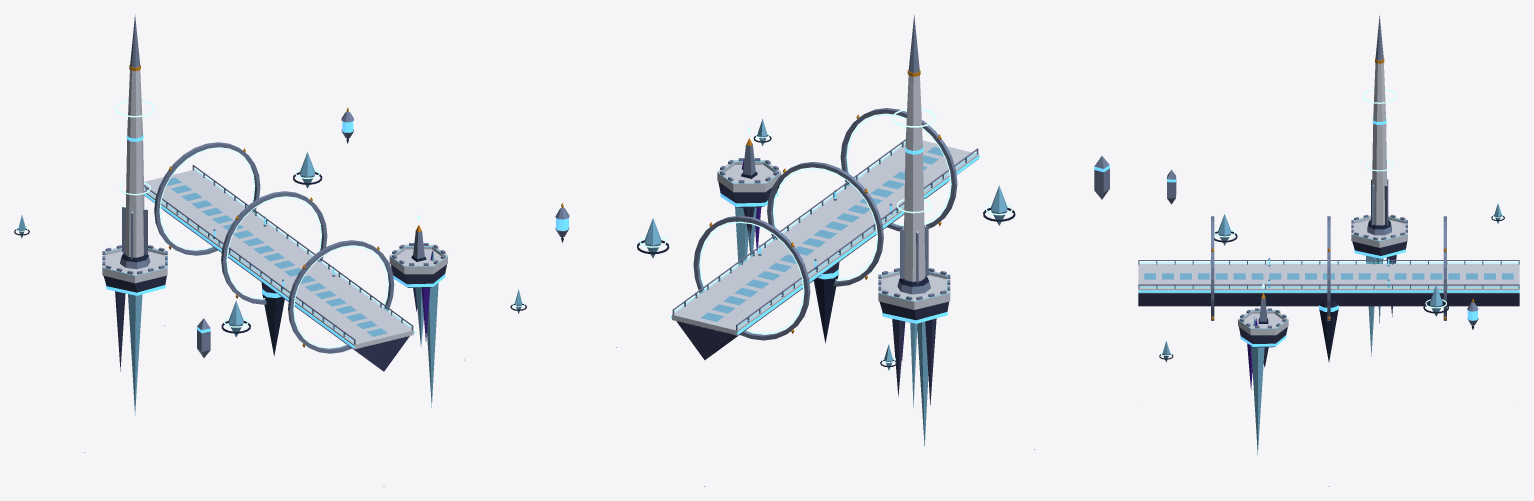
The model's file is chunk_path_hoops.fbx.
3 views of the same model, side by side, from view 1: azimuth 30°, elevation 25°; view 2: azimuth 150°, elevation 25°; view 3: azimuth 270°, elevation 25° (orthographic). The views are drawn at different scales.
Visible parts, largest first — view 1: chunk_path_hoops; view 2: chunk_path_hoops; view 3: chunk_path_hoops.
Boxes of the visible parts, x1,y1,x2,y2 form: chunk_path_hoops: [14, 14, 526, 486]; chunk_path_hoops: [555, 15, 1109, 486]; chunk_path_hoops: [1138, 15, 1519, 486].
Size of the model in its own units: 256 by 256 by 256.
